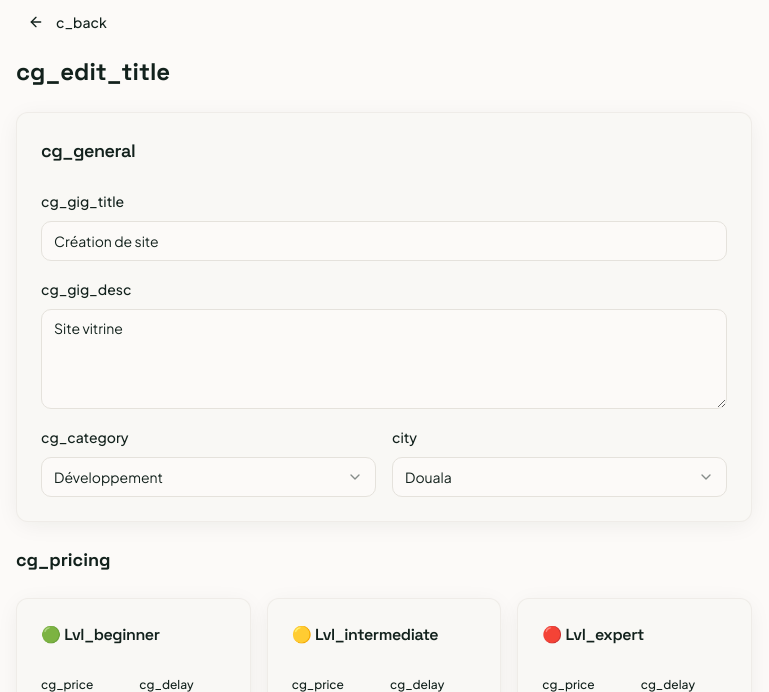
Test: CreateGig en mode édition › affiche les categories et les villes disponibles
Click the dropdown labelled "Développement" at x=109, y=477, box [41,457,376,497]
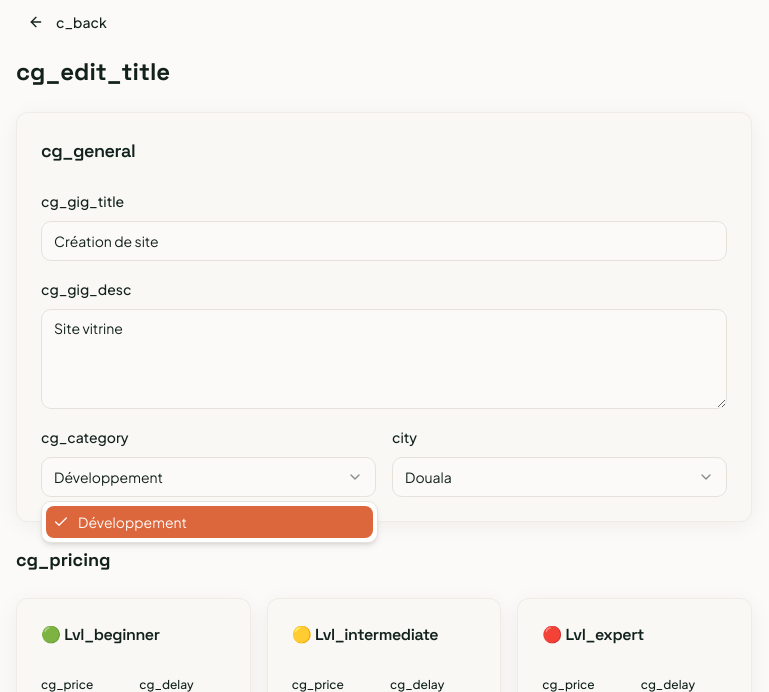
Now the option shows "veloppement"
Click the option "Développement" at x=133, y=522, box [46,506,373,538]
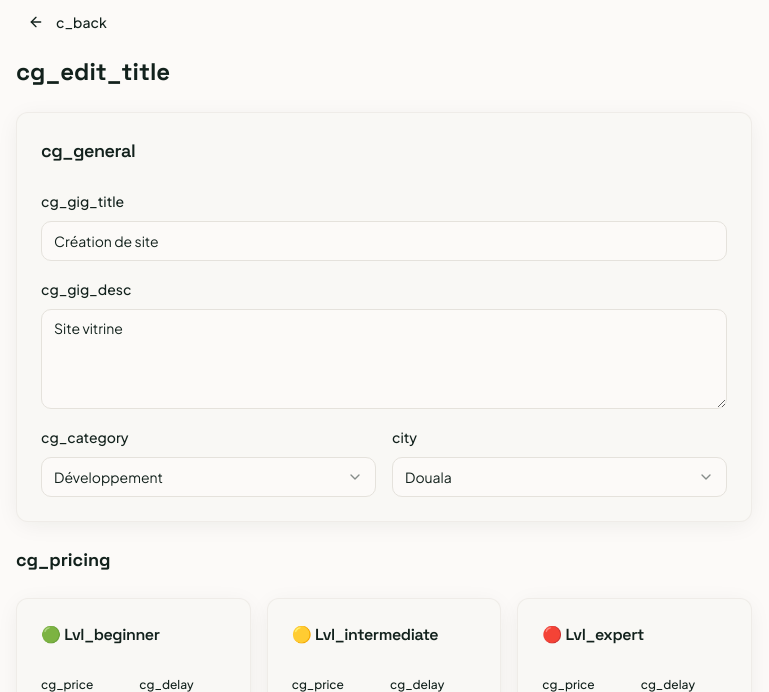
Click the dropdown labelled "Douala" at x=428, y=477, box [392,457,727,497]
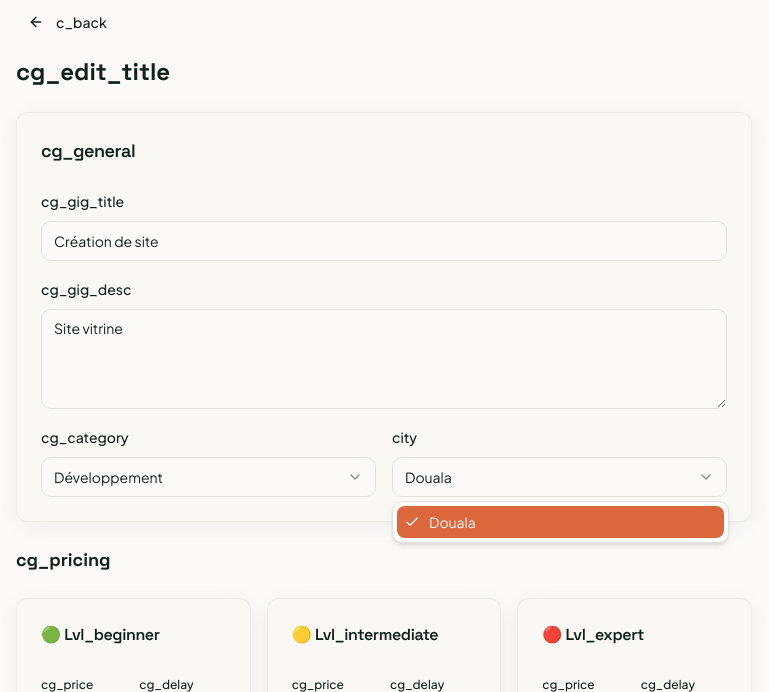
Now the option "Douala" is shown, box [397,506,724,538]
